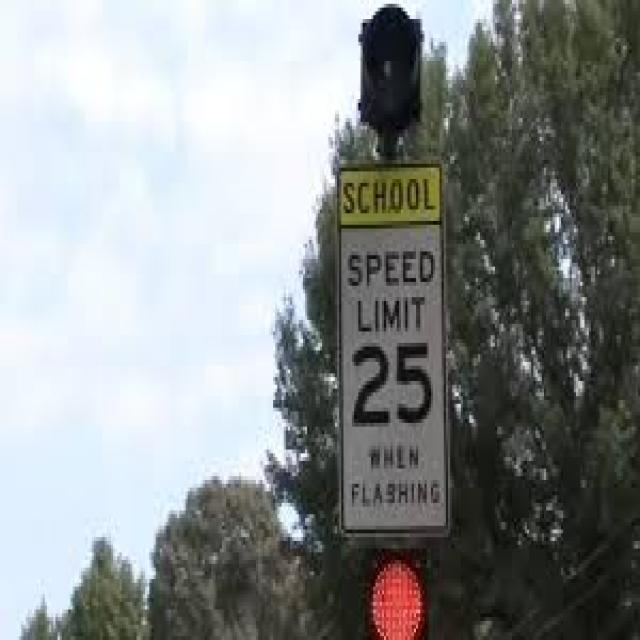speedLimit25: (337, 223, 448, 436)
